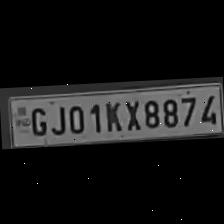0: (64, 100, 86, 134)
1: (84, 100, 104, 132)
4: (196, 90, 218, 124)
7: (178, 92, 196, 126)
8: (138, 96, 160, 128), (159, 93, 179, 126)
G: (26, 102, 47, 136)
J: (47, 102, 65, 134)
K: (100, 97, 122, 131)
X: (120, 96, 140, 130)
